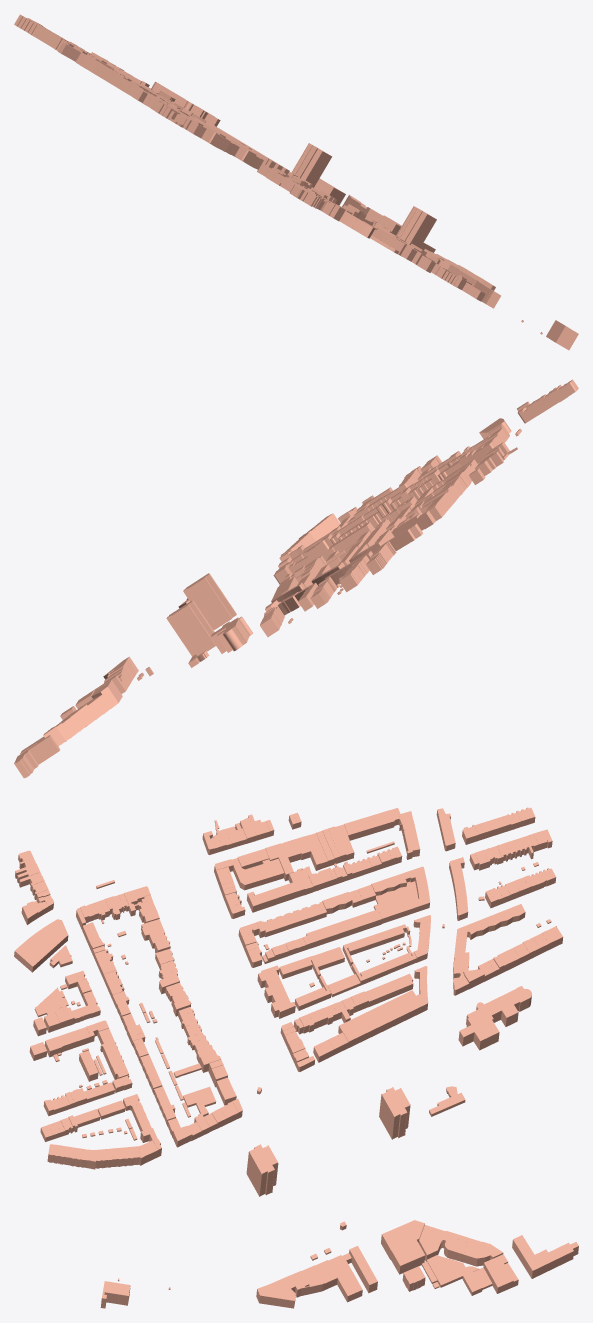
The picture shows the model from 3 angles, top to bottom: view 1: azimuth 30°, elevation 25°; view 2: azimuth 150°, elevation 25°; view 3: azimuth 270°, elevation 25°; orthographic projection. The views are drawn at different scales.
Size of the model in its own units: 533 by 393 by 636.
